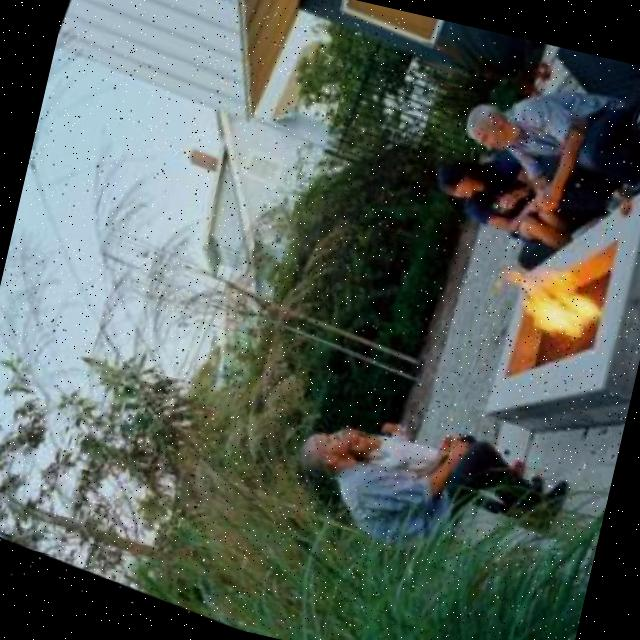fire: (474, 255, 623, 365)
